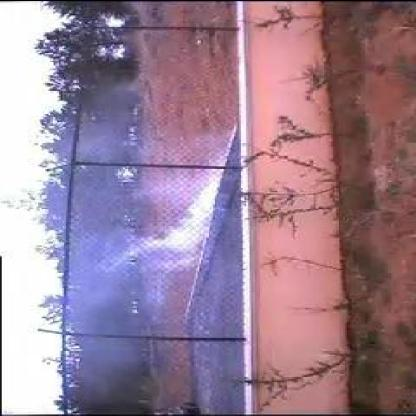-: (76, 166, 222, 306)
